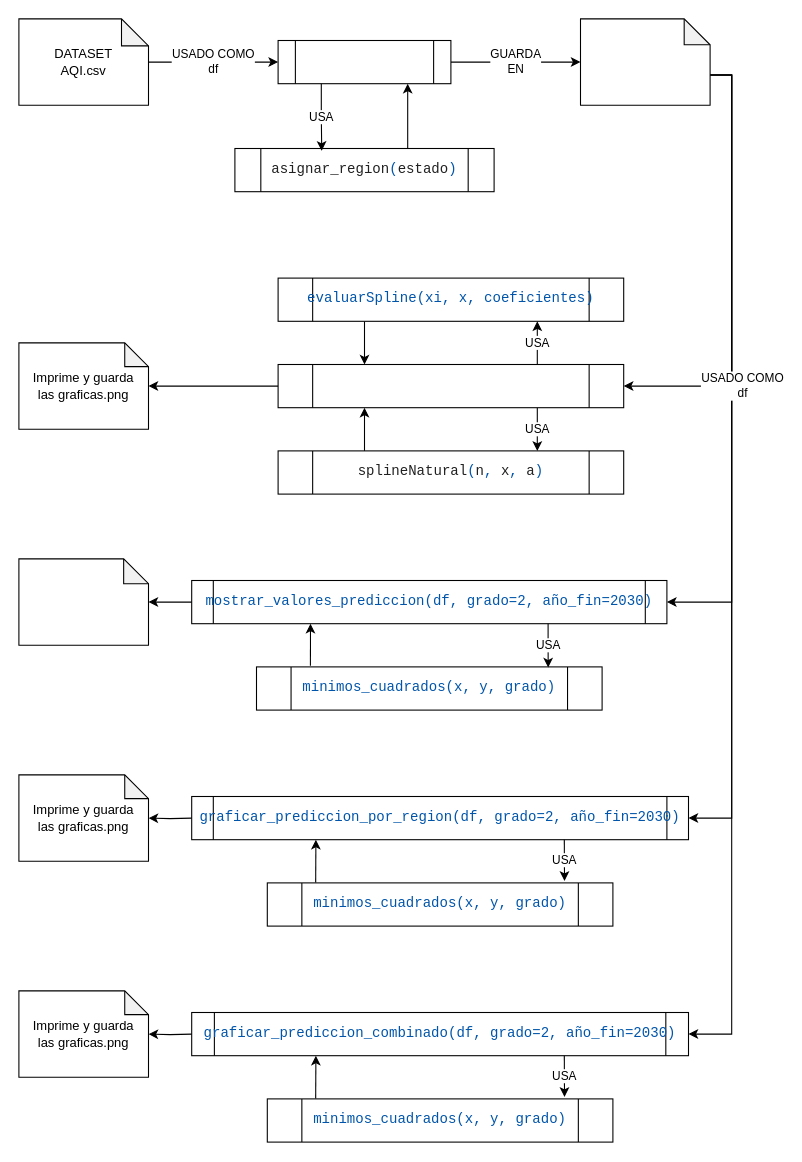
Image size: 802x1162. Some labels were removed from this diagram. Each missing label, with the centre of its shape:
"DATASET LIMPIO.csv" goes at [644,61].
"graficar_spline_por_region(df )" goes at [450,385].
"Imprime los valores predichos por región" goes at [83,601].
"limpiar_agrupar()" goes at [364,61].
